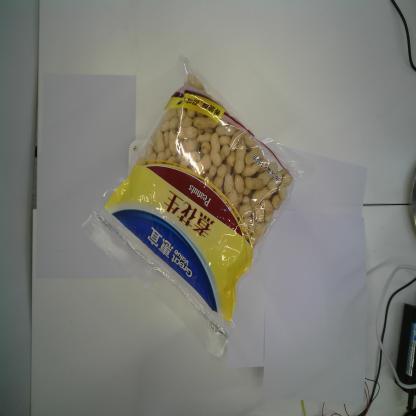Dried Food: (77, 52, 308, 356)
